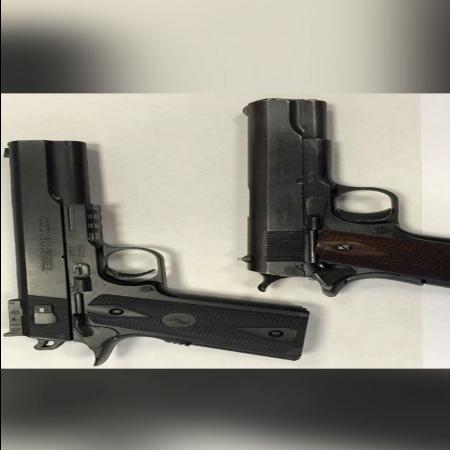Pistol: (235, 95, 449, 302)
